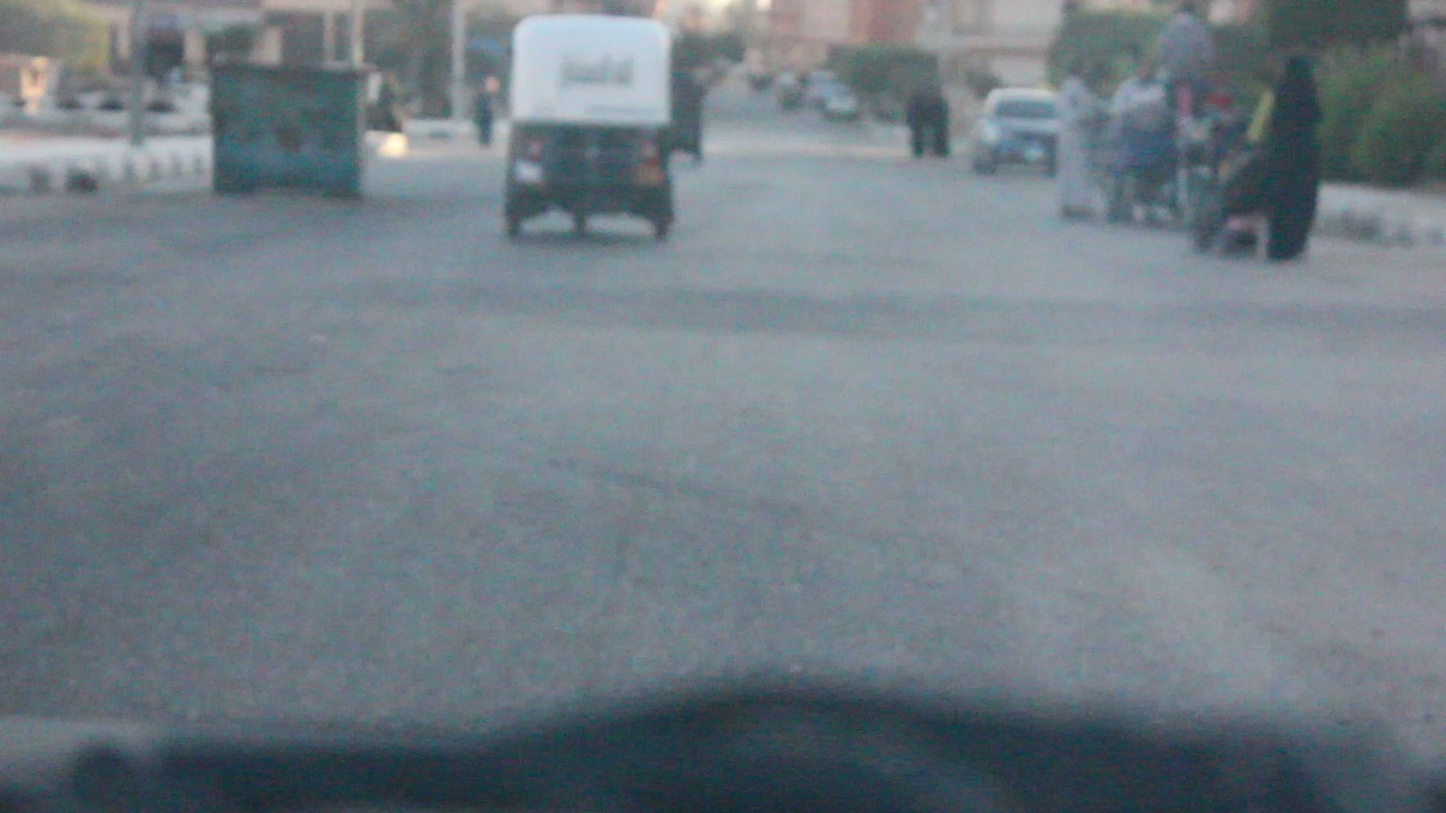Bump: (0, 248, 1442, 393)
